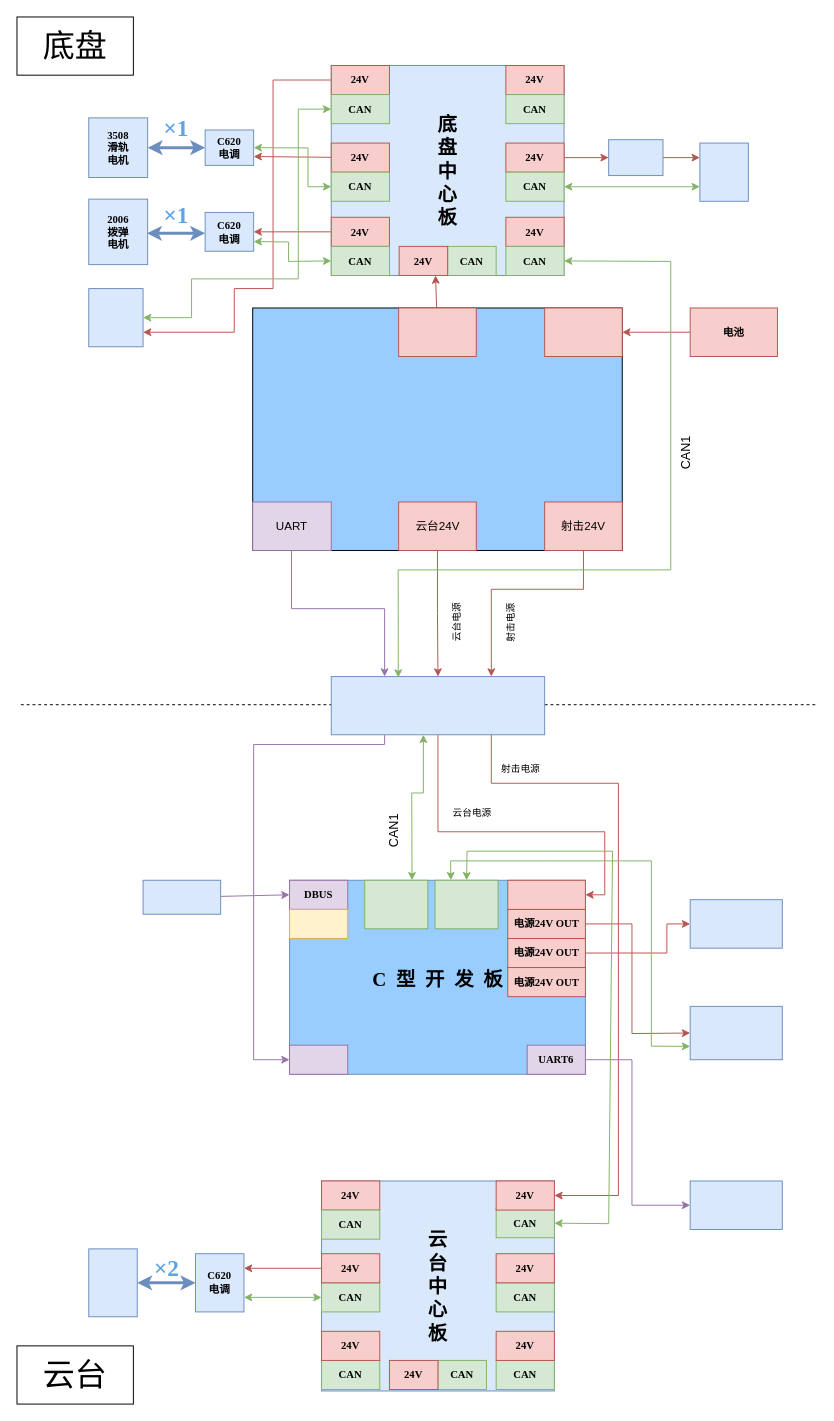
Image size: 834x1421. Some labels were removed from this diagram. The box of each missing label's shape, as (x1, y1, x2, y2) in pixels:
24V IN: (544, 307, 622, 356)
24V->5V: (608, 139, 663, 176)
2PIN CAN1: (364, 879, 428, 929)
3508 摩擦轮 电机: (88, 1248, 137, 1317)
4PIN CAN2 ×2: (434, 879, 498, 929)
DR16 接收机: (142, 879, 221, 914)
PITCH轴 6020电机: (689, 1005, 782, 1060)
PWM: (289, 908, 348, 938)
tof 激光传感器 × 2: (699, 142, 748, 201)
UART1: (289, 1044, 348, 1074)
YAW轴 6020电机: (88, 288, 143, 347)
底盘24V: (398, 307, 476, 356)
滑环: (330, 676, 545, 735)
电源24V IN: (507, 879, 585, 909)
荧光充能 装置: (689, 899, 782, 948)
裁 判 系 统 电 源 管 理 模 块: (252, 307, 622, 550)
视觉 部分: (689, 1180, 782, 1229)
